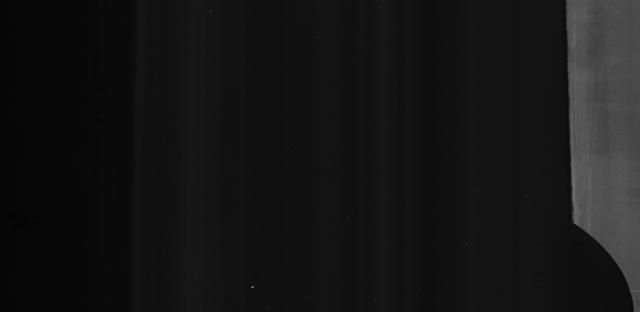crescent_gap: (566, 211, 640, 312)
